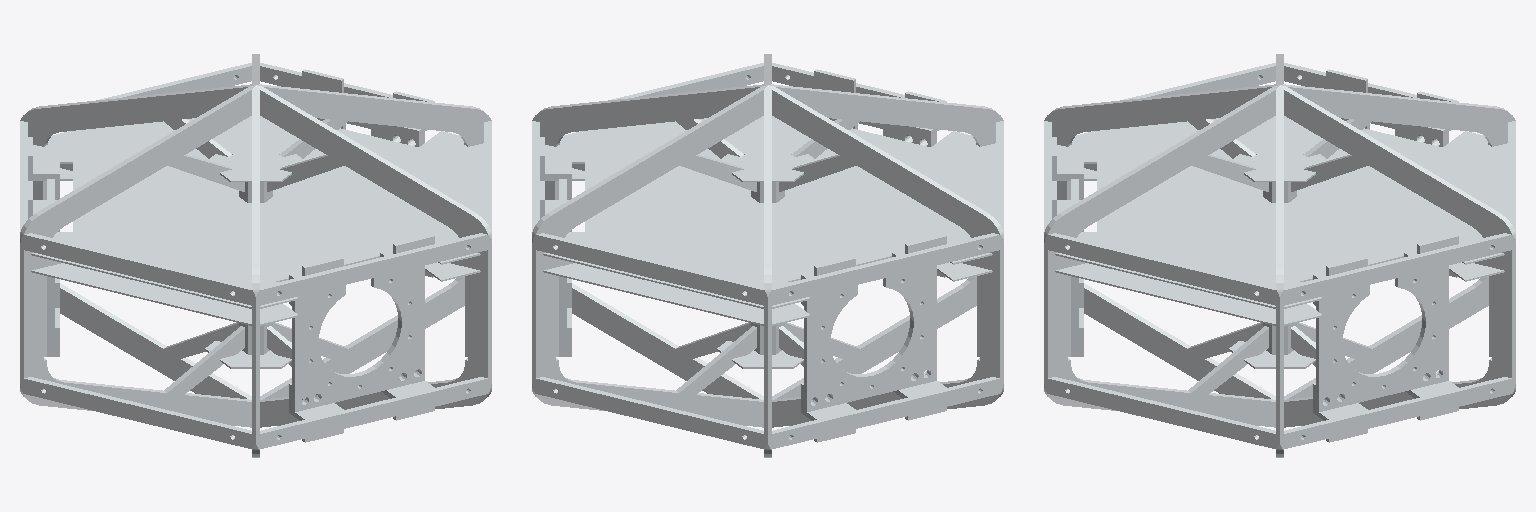
The robot description file, URDF, robot "tripod2":
<?xml version="1.0" encoding="utf-8"?>
<!-- This URDF was automatically created by SolidWorks to URDF Exporter! Originally created by [author] ([email redacted]) 
     Commit Version: 1.6.0-4-g7f85cfe  Build Version: 1.6.7995.38578
     For more information, please see http://wiki.ros.org/sw_urdf_exporter -->
<robot
  name="tripod2">
  <link
    name="base_link">
    <inertial>
      <origin
        xyz="-0.00270335216482636 0.0187131450927422 0.0427484175864134"
        rpy="0 0 0" />
      <mass
        value="4.94527215790382" />
      <inertia
        ixx="0.0216096734231236"
        ixy="1.89142375787298E-13"
        ixz="-3.17234256779018E-07"
        iyy="0.0216096734261006"
        iyz="-1.98339731835367E-17"
        izz="0.0356919850335974" />
    </inertial>
    <visual>
      <origin
        xyz="0 0 0"
        rpy="0 0 0" />
      <geometry>
        <mesh
          filename="package://tripod2/meshes/base_link.STL" />
      </geometry>
      <material
        name="">
        <color
          rgba="0.898039215686275 0.917647058823529 0.929411764705882 1" />
      </material>
    </visual>
    <collision>
      <origin
        xyz="0 0 0"
        rpy="0 0 0" />
      <geometry>
        <mesh
          filename="package://tripod2/meshes/base_link.STL" />
      </geometry>
    </collision>
  </link>
  <link
    name="sec01">
    <inertial>
      <origin
        xyz="-0.099146 -0.066135 -0.078805"
        rpy="0 0 0" />
      <mass
        value="2.7579" />
      <inertia
        ixx="0.014828"
        ixy="-2.6613E-06"
        ixz="7.2037E-06"
        iyy="0.0080221"
        iyz="-0.0050006"
        izz="0.0071497" />
    </inertial>
    <visual>
      <origin
        xyz="0 0 0"
        rpy="0 0 0" />
      <geometry>
        <mesh
          filename="package://tripod2/meshes/sec01.STL" />
      </geometry>
      <material
        name="">
        <color
          rgba="0.79216 0.81961 0.93333 1" />
      </material>
    </visual>
    <collision>
      <origin
        xyz="0 0 0"
        rpy="0 0 0" />
      <geometry>
        <mesh
          filename="package://tripod2/meshes/sec01.STL" />
      </geometry>
    </collision>
  </link>
  <joint
    name="joint01"
    type="revolute">
    <origin
      xyz="0.098298 -0.27841 0.029643"
      rpy="0 0 0" />
    <parent
      link="base_link" />
    <child
      link="sec01" />
    <axis
      xyz="-1 0 0" />
    <limit
      lower="-1.571"
      upper="1.571"
      effort="100"
      velocity="100" />
  </joint>
  <link
    name="sec02">
    <inertial>
      <origin
        xyz="-0.0991458161608117 -0.0661350511858558 -0.0788047730837251"
        rpy="0 0 0" />
      <mass
        value="2.75788752397466" />
      <inertia
        ixx="0.014827760073667"
        ixy="-2.66130750212223E-06"
        ixz="7.20369811901865E-06"
        iyy="0.00802208362463252"
        iyz="-0.00500056914276237"
        izz="0.0071497063317977" />
    </inertial>
    <visual>
      <origin
        xyz="0 0 0"
        rpy="0 0 0" />
      <geometry>
        <mesh
          filename="package://tripod2/meshes/sec02.STL" />
      </geometry>
      <material
        name="">
        <color
          rgba="0.792156862745098 0.819607843137255 0.933333333333333 1" />
      </material>
    </visual>
    <collision>
      <origin
        xyz="0 0 0"
        rpy="0 0 0" />
      <geometry>
        <mesh
          filename="package://tripod2/meshes/sec02.STL" />
      </geometry>
    </collision>
  </link>
  <joint
    name="joint02"
    type="revolute">
    <origin
      xyz="0.20411 0.25474 0.029643"
      rpy="0 0 2.0944" />
    <parent
      link="base_link" />
    <child
      link="sec02" />
    <axis
      xyz="-1 0 0" />
    <limit
      lower="-1.571"
      upper="1.571"
      effort="100"
      velocity="100" />
  </joint>
  <link
    name="sec03">
    <inertial>
      <origin
        xyz="-0.0991201442224511 -0.0661055678309929 -0.0787608844565445"
        rpy="0 0 0" />
      <mass
        value="2.75486571931035" />
      <inertia
        ixx="0.0148277068569049"
        ixy="-2.66128073388443E-06"
        ixz="7.20369745727369E-06"
        iyy="0.00802196300484825"
        iyz="-0.00500056913809221"
        izz="0.00714959164326314" />
    </inertial>
    <visual>
      <origin
        xyz="0 0 0"
        rpy="0 0 0" />
      <geometry>
        <mesh
          filename="package://tripod2/meshes/sec03.STL" />
      </geometry>
      <material
        name="">
        <color
          rgba="0.792156862745098 0.819607843137255 0.933333333333333 1" />
      </material>
    </visual>
    <collision>
      <origin
        xyz="0 0 0"
        rpy="0 0 0" />
      <geometry>
        <mesh
          filename="package://tripod2/meshes/sec03.STL" />
      </geometry>
    </collision>
  </link>
  <joint
    name="joint03"
    type="revolute">
    <origin
      xyz="-0.31052 0.079806 0.029643"
      rpy="0 0 -2.0944" />
    <parent
      link="base_link" />
    <child
      link="sec03" />
    <axis
      xyz="-1 0 0" />
    <limit
      lower="-1.571"
      upper="1.571"
      effort="100"
      velocity="100" />
  </joint>
</robot>

--- What the picture shows (computed from the rendered views, not written in the file) ---
The picture shows the robot from 3 angles, left to right: view 1: azimuth 30°, elevation 25°; view 2: azimuth 150°, elevation 25°; view 3: azimuth 270°, elevation 25°; orthographic projection.
Robot: tripod2 — 4 links, 3 joints (3 revolute); root link base_link; default pose: every joint at zero.
Links seen in each view (by area): view 1: base_link; view 2: base_link; view 3: base_link.
Boxes of the visible links, bbox=[...] form: base_link: bbox=[20, 54, 491, 457]; base_link: bbox=[532, 54, 1003, 457]; base_link: bbox=[1044, 54, 1515, 457].
Bounding box of the posed robot: 0.48 × 0.4157 × 0.333 m (x, y, z).
Meshes: 4 distinct files referenced, 1 mesh visuals loaded (1 binary STL); not drawn: 3 (reference not matched to a file when rendering).